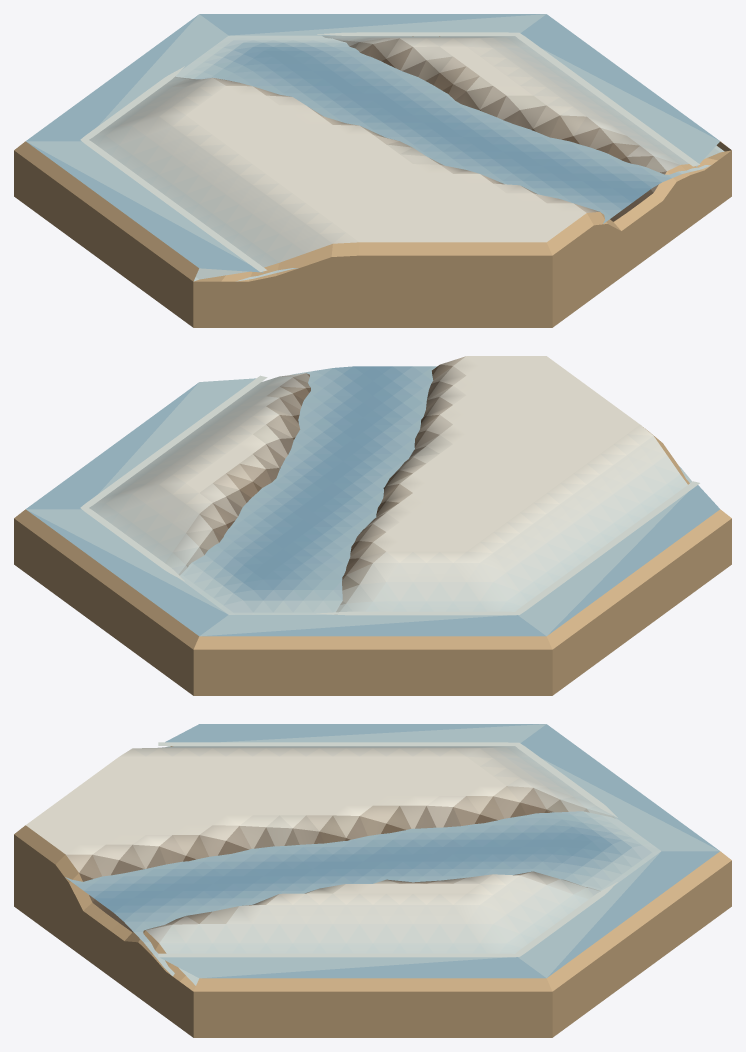
Rendered from estuary_sea4_edge5_snow.fbx.
3 views of the same model, one above another, from view 1: azimuth 30°, elevation 25°; view 2: azimuth 150°, elevation 25°; view 3: azimuth 270°, elevation 25° (orthographic).
Parts seen in each view (by area): view 1: estuary_sea4_edge5_snow; view 2: estuary_sea4_edge5_snow; view 3: estuary_sea4_edge5_snow.
Part boxes in pixels (<box>): estuary_sea4_edge5_snow: <box>14,14,731,327</box>; estuary_sea4_edge5_snow: <box>14,356,731,695</box>; estuary_sea4_edge5_snow: <box>14,724,731,1037</box>.
Bounding box in the file's own units: 1.73 × 0.25 × 2.
